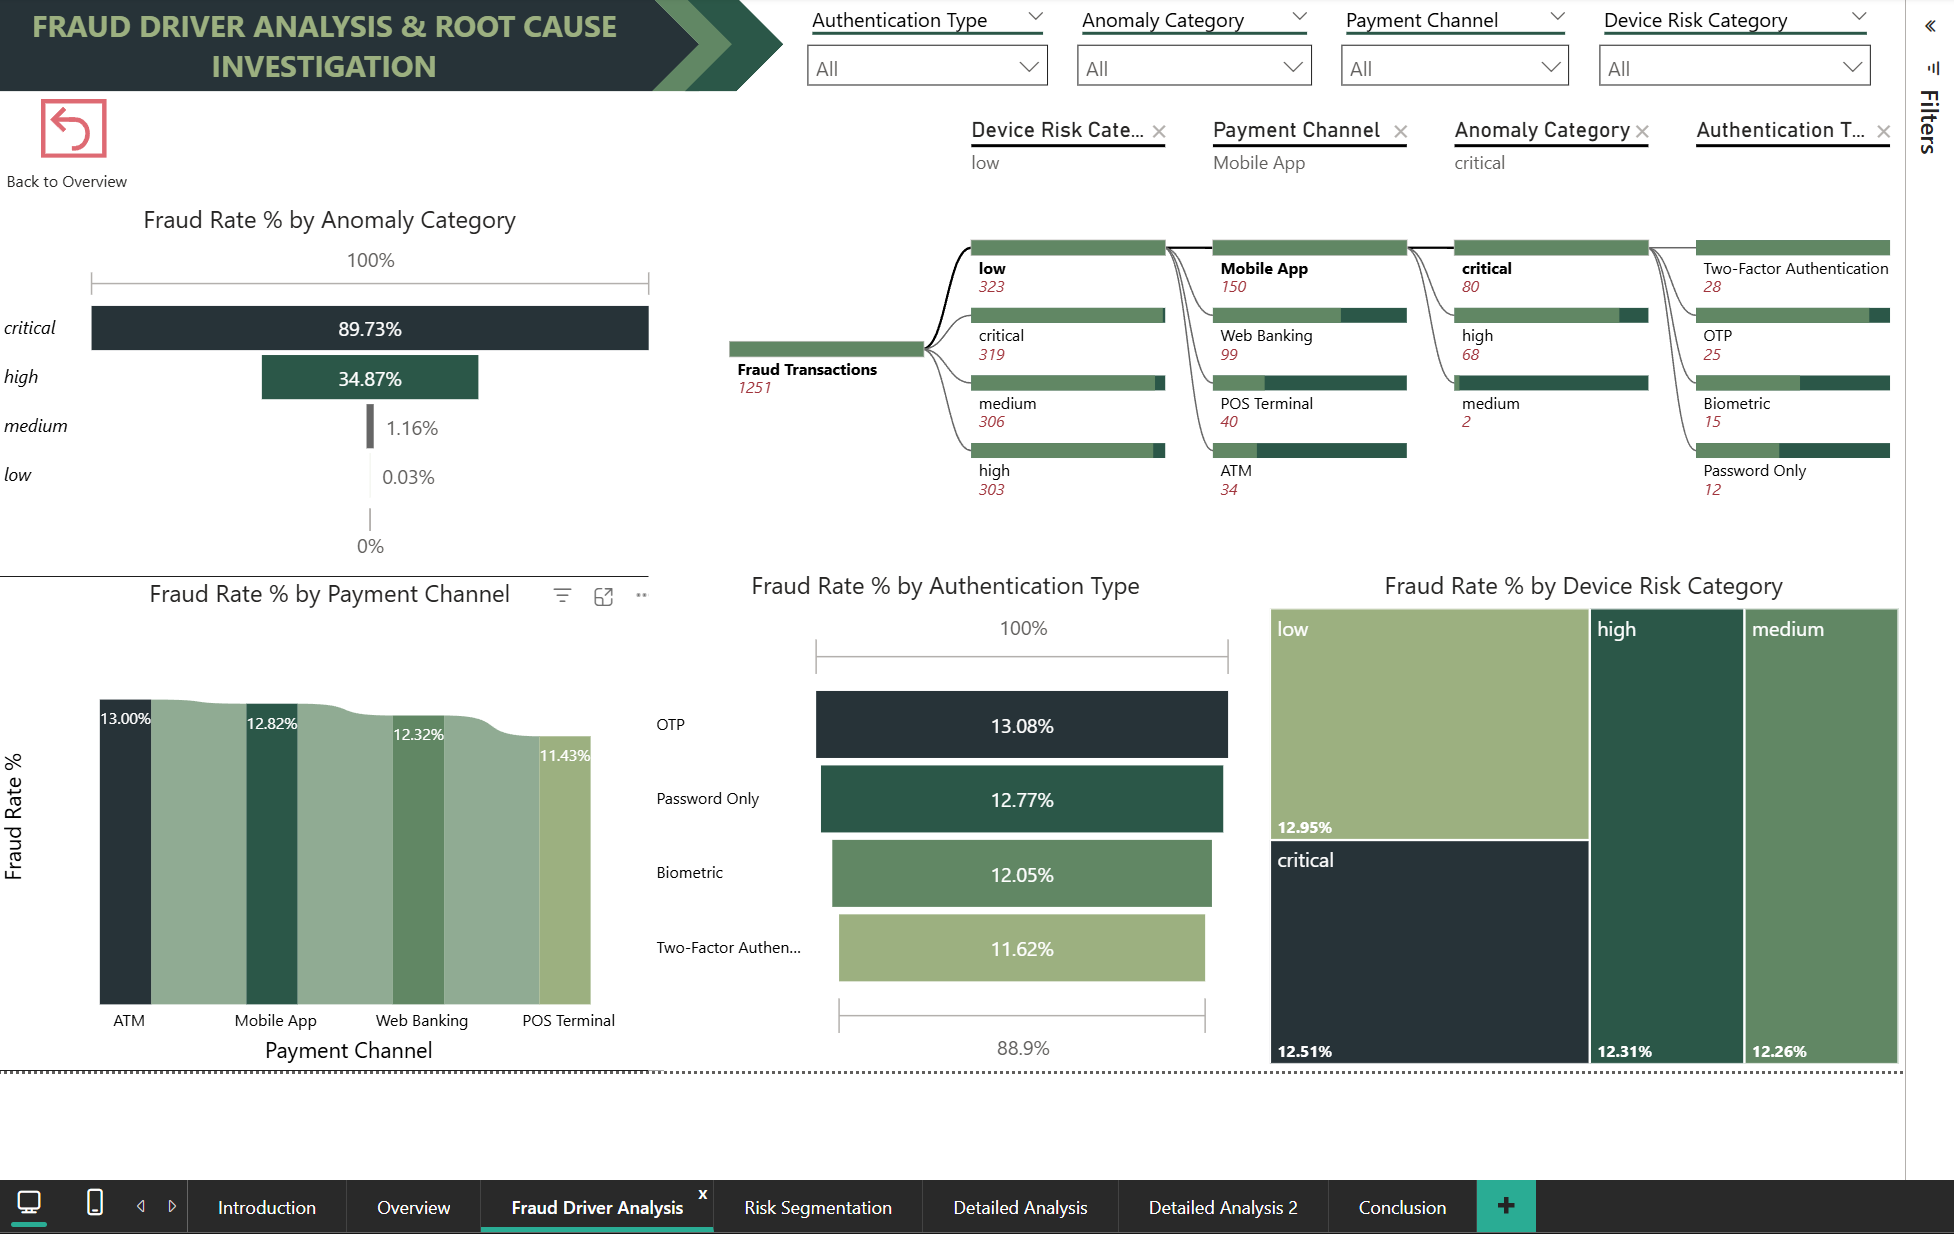

The page's visual inventory and layout, read from the dashboard file:
{"tool":"powerbi","page":{"name":"Fraud Driver Analysis","canvas":[1280,720],"ordinal":2},"visuals":[{"type":"funnel","fields":{"Y":["banking_transactions.Fraud Rate %"],"Category":["banking_transactions.Anomaly Category"]},"box":[0,137.4,447.3,245.1],"z":0},{"type":"ribbonChart","fields":{"Y":["banking_transactions.fraud rate %"],"Category":["banking_transactions.payment_channel"]},"box":[0,388.2,447.6,331.9],"z":1000},{"type":"treemap","fields":{"Group":["banking_transactions.Device Risk Category"],"Values":["banking_transactions.Fraud Rate %"]},"box":[848.9,383.2,431.5,336.9],"z":2000},{"type":"funnel","fields":{"Y":["banking_transactions.Fraud Rate %"],"Category":["banking_transactions.Authentication Type"]},"box":[437.5,383.2,398.3,336.9],"z":3000},{"type":"decompositionTreeVisual","fields":{"ExplainBy":["banking_transactions.Device Risk Category","banking_transactions.Payment Channel","banking_transactions.Anomaly Category","banking_transactions.Authentication Type"],"Analyze":["banking_transactions.Fraud Transactions"]},"box":[461.6,63.4,818.7,319.8],"z":4000},{"type":"slicer","fields":{"Values":["banking_transactions.Device Risk Category"]},"box":[1065.1,0,202.2,60.3],"z":5000},{"type":"slicer","fields":{"Values":["banking_transactions.Payment Channel"]},"box":[892.1,0,173,60.3],"z":6000},{"type":"slicer","fields":{"Values":["banking_transactions.Anomaly Category"]},"box":[715.1,0,177,60.3],"z":7000},{"type":"slicer","fields":{"Values":["banking_transactions.Authentication Type"]},"box":[534.1,0,181,60.3],"z":8000},{"type":"group","id":"g1","title":"Group 1","box":[0,0,528,63.4],"z":9000},{"type":"shape","box":[0,0,471.7,63.4],"z":9000,"group":"g1"},{"type":"shape","box":[439.5,0,63.4,63.4],"z":10000,"group":"g1"},{"type":"actionButton","box":[29.7,68.1,44,39.6],"z":10000},{"type":"shape","box":[461.6,0,66.4,63.4],"z":11000,"group":"g1"},{"type":"textbox","box":[2.2,107.7,100,29.7],"z":11000}]}

Visuals, with their boxes on the page's 1280x720 design canvas (x1, y1, x2, y2). These are canvas units, not pixel positions in the 1954x1234 screenshot, which may show the page scaled, cropped or inside an application window:
funnel - banking_transactions.Fraud Rate % x banking_transactions.Anomaly Category: {"x1": 0, "y1": 137, "x2": 447, "y2": 382}
ribbonChart - banking_transactions.fraud rate % x banking_transactions.payment_channel: {"x1": 0, "y1": 388, "x2": 448, "y2": 720}
treemap - banking_transactions.Device Risk Category x banking_transactions.Fraud Rate %: {"x1": 849, "y1": 383, "x2": 1280, "y2": 720}
funnel - banking_transactions.Fraud Rate % x banking_transactions.Authentication Type: {"x1": 438, "y1": 383, "x2": 836, "y2": 720}
decompositionTreeVisual - banking_transactions.Device Risk Category x banking_transactions.Payment Channel: {"x1": 462, "y1": 63, "x2": 1280, "y2": 383}
slicer - banking_transactions.Device Risk Category: {"x1": 1065, "y1": 0, "x2": 1267, "y2": 60}
slicer - banking_transactions.Payment Channel: {"x1": 892, "y1": 0, "x2": 1065, "y2": 60}
slicer - banking_transactions.Anomaly Category: {"x1": 715, "y1": 0, "x2": 892, "y2": 60}
slicer - banking_transactions.Authentication Type: {"x1": 534, "y1": 0, "x2": 715, "y2": 60}
"Group 1" group: {"x1": 0, "y1": 0, "x2": 528, "y2": 63}
shape: {"x1": 0, "y1": 0, "x2": 472, "y2": 63}
shape: {"x1": 440, "y1": 0, "x2": 503, "y2": 63}
actionButton: {"x1": 30, "y1": 68, "x2": 74, "y2": 108}
shape: {"x1": 462, "y1": 0, "x2": 528, "y2": 63}
textbox: {"x1": 2, "y1": 108, "x2": 102, "y2": 137}
